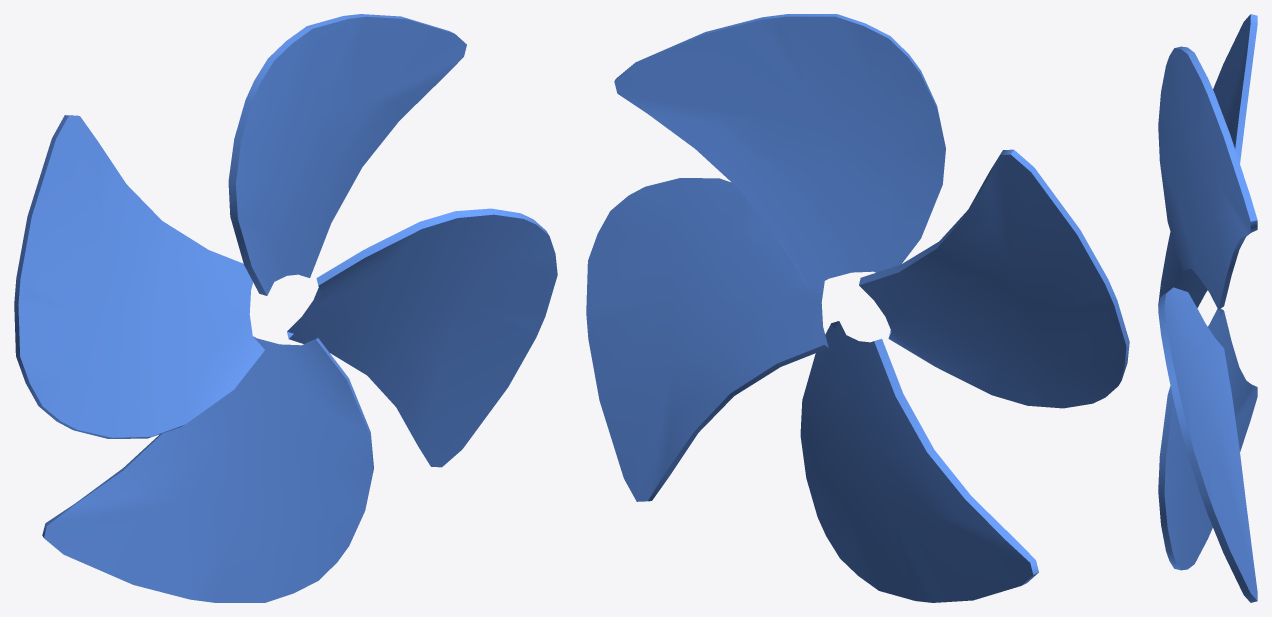
The model's file is propeller.fbx.
The picture shows the model from 3 angles, left to right: view 1: azimuth 30°, elevation 25°; view 2: azimuth 150°, elevation 25°; view 3: azimuth 270°, elevation 25°; orthographic projection. The views are drawn at different scales.
Visible parts, largest first — view 1: hane; view 2: hane; view 3: hane.
Boxes of the visible parts, bbox=[...] form: hane: bbox=[14, 14, 557, 602]; hane: bbox=[586, 14, 1129, 602]; hane: bbox=[1158, 14, 1257, 602].
Size of the model in its own units: 26.49 by 26.49 by 4.5.
1 material, 1 textured.
